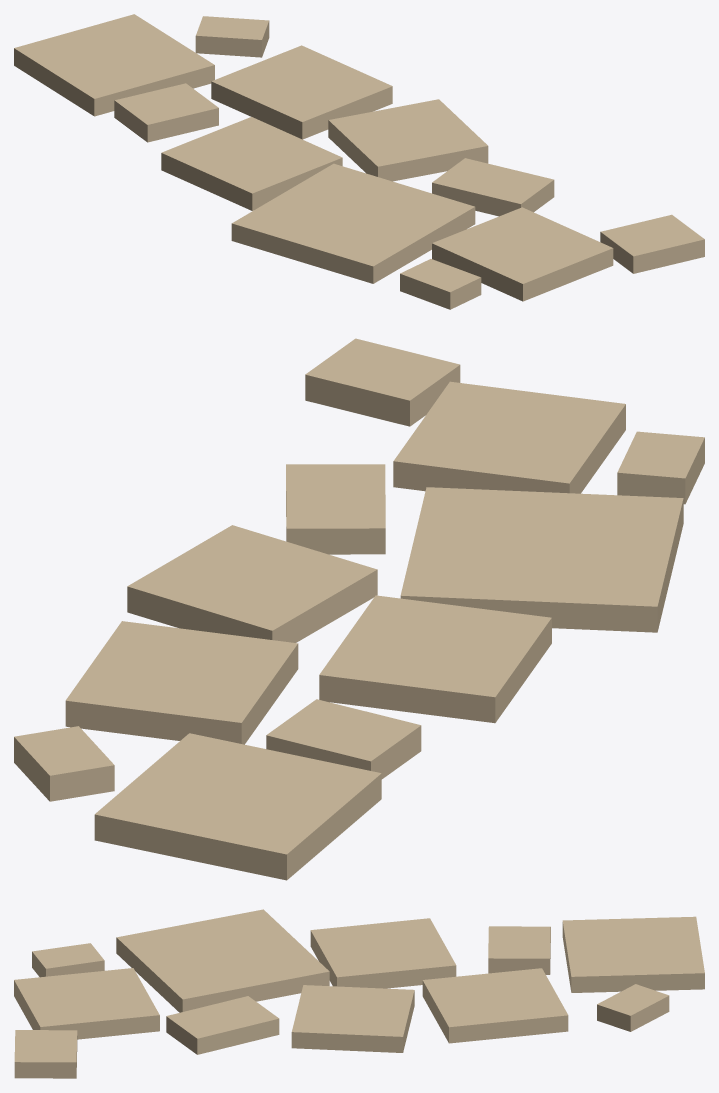
Rendered from cobblepath3.fbx.
3 renders of one model, top to bottom at view 1: azimuth 30°, elevation 25°; view 2: azimuth 150°, elevation 25°; view 3: azimuth 270°, elevation 25°, orthographic. The views are drawn at different scales.
Parts seen in each view (by area): view 1: cobblepath3; view 2: cobblepath3; view 3: cobblepath3.
Part boxes in pixels (bbox=[...]): cobblepath3: bbox=[14, 14, 704, 309]; cobblepath3: bbox=[14, 338, 704, 880]; cobblepath3: bbox=[14, 909, 704, 1078].
Bounding box in the file's own units: 3.24 × 0.1601 × 6.19.
